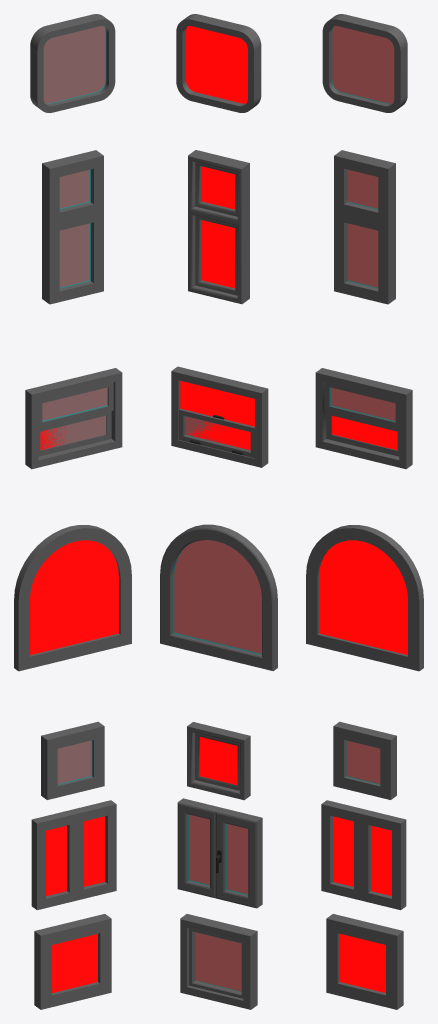
File: Windows.fbx
The picture shows the model from 3 angles, left to right: view 1: azimuth 30°, elevation 25°; view 2: azimuth 150°, elevation 25°; view 3: azimuth 330°, elevation 25°; orthographic projection.
Parts seen in each view (by area): view 1: Window4, Window6, Window5, Window2, Window7, Window1, Window3; view 2: Window4, Window6, Window2, Window5, Window7, Window1, Window3; view 3: Window4, Window6, Window5, Window2, Window7, Window1, Window3.
Boxes of the visible parts, x1=… form: Window4: x1=14, y1=525, x2=131, y2=671; Window6: x1=42, y1=150, x2=103, y2=304; Window5: x1=25, y1=368, x2=122, y2=469; Window2: x1=31, y1=800, x2=116, y2=910; Window7: x1=30, y1=14, x2=115, y2=112; Window1: x1=34, y1=914, x2=111, y2=1009; Window3: x1=41, y1=721, x2=104, y2=799; Window4: x1=160, y1=524, x2=277, y2=671; Window6: x1=188, y1=150, x2=249, y2=304; Window2: x1=177, y1=798, x2=262, y2=908; Window5: x1=171, y1=366, x2=268, y2=467; Window7: x1=176, y1=14, x2=261, y2=112; Window1: x1=180, y1=914, x2=257, y2=1009; Window3: x1=187, y1=722, x2=250, y2=800; Window4: x1=306, y1=525, x2=423, y2=671; Window6: x1=334, y1=150, x2=395, y2=304; Window5: x1=315, y1=368, x2=412, y2=469; Window2: x1=321, y1=800, x2=406, y2=910; Window7: x1=322, y1=14, x2=407, y2=112; Window1: x1=326, y1=914, x2=403, y2=1009; Window3: x1=333, y1=721, x2=396, y2=799.
Size of the model in its own units: 80 by 658 by 10.82.
